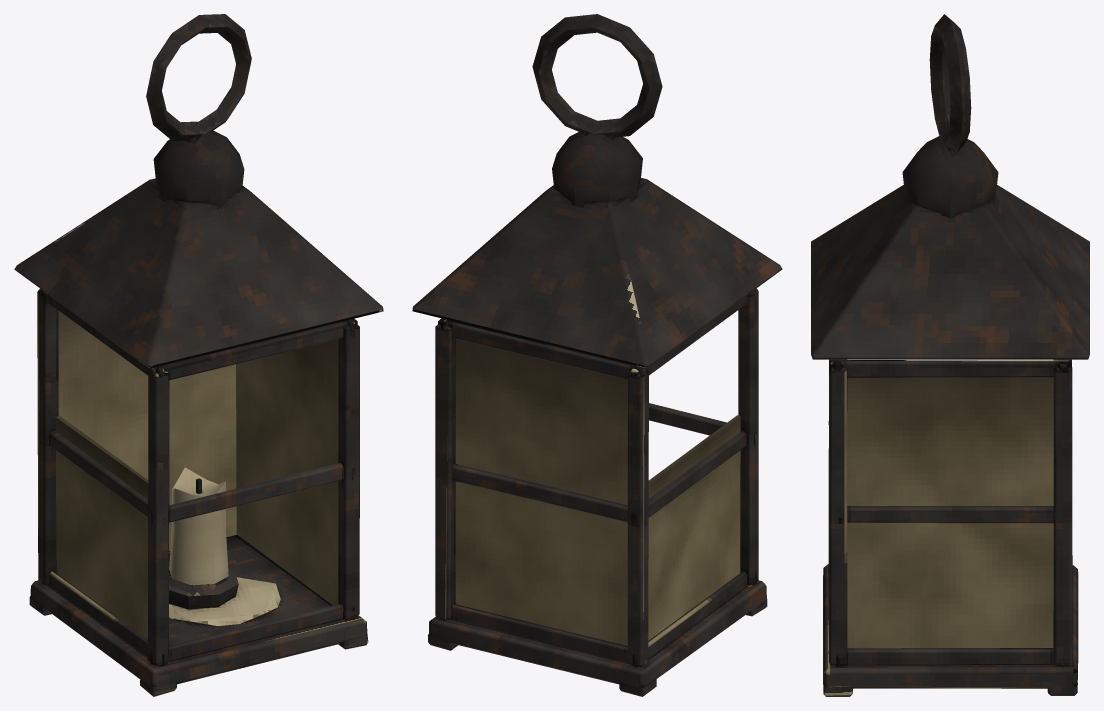
Rendered from lantern.glb.
3 views of the same model, side by side, from view 1: azimuth 30°, elevation 25°; view 2: azimuth 150°, elevation 25°; view 3: azimuth 270°, elevation 25° (orthographic). The views are drawn at different scales.
Visible parts, largest first — view 1: Lantern; view 2: Lantern; view 3: Lantern.
Part boxes in pixels (x1,y1,x2,y2): Lantern: (14, 14, 383, 696); Lantern: (412, 14, 782, 696); Lantern: (811, 14, 1089, 696).
Size of the model in its own units: 0.186 by 0.4594 by 0.186.
Materials: 1 (1 with a texture image).
